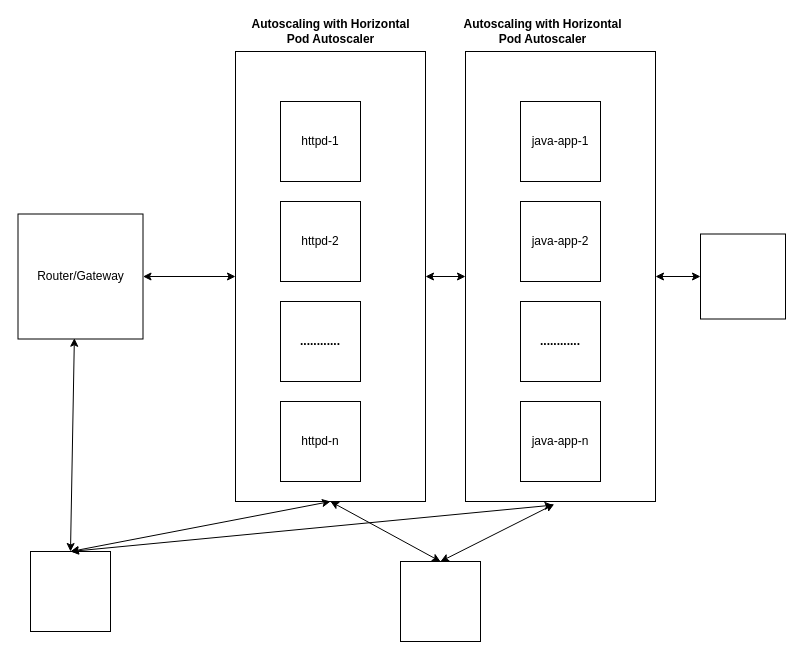
Image size: 803x659. Some labels were removed from this diagram. Each missing label, with the centre of its shape:
kube DNS: the point at 70,591
metric-server: the point at 440,601
MYSQL 8: the point at 743,276
